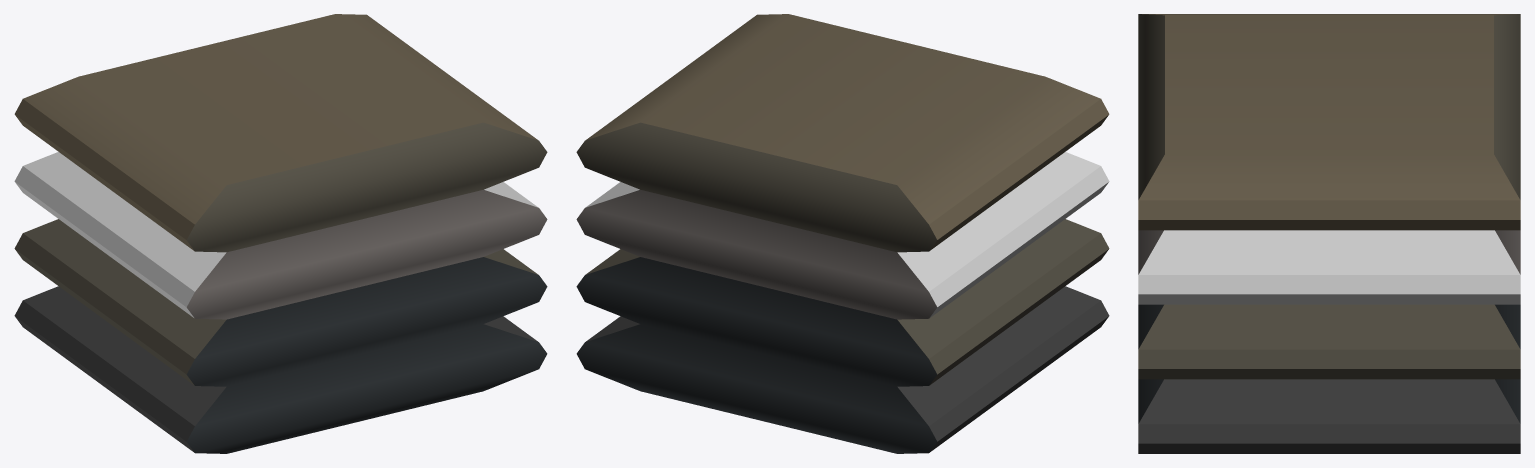
Rendered from Cloth.fbx.
3 views of the same model, side by side, from view 1: azimuth 30°, elevation 25°; view 2: azimuth 150°, elevation 25°; view 3: azimuth 270°, elevation 25° (orthographic). The views are drawn at different scales.
Parts seen in each view (by area): view 1: Cloth; view 2: Cloth; view 3: Cloth.
Part boxes in pixels (x1,y1,x2,y2): Cloth: (14, 14, 547, 453); Cloth: (576, 14, 1109, 453); Cloth: (1138, 14, 1520, 453).
Bounding box in the file's own units: 0.8171 × 0.5815 × 0.6749.
1 material, 1 textured.
